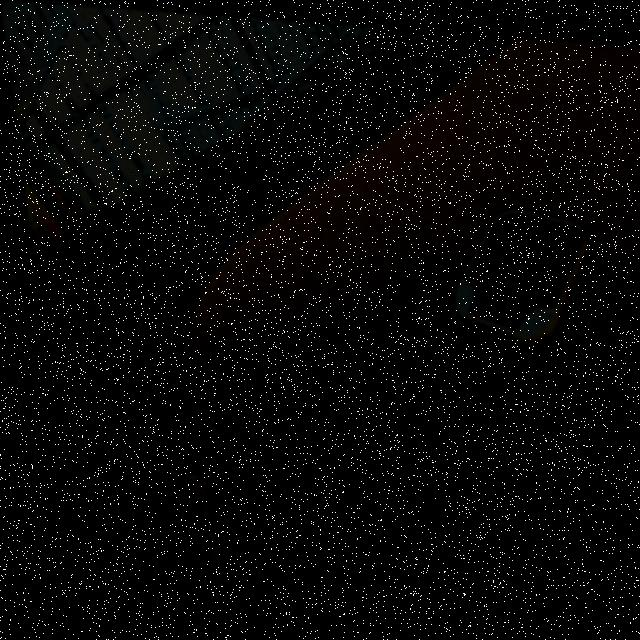adapter: (435, 194, 625, 452)
